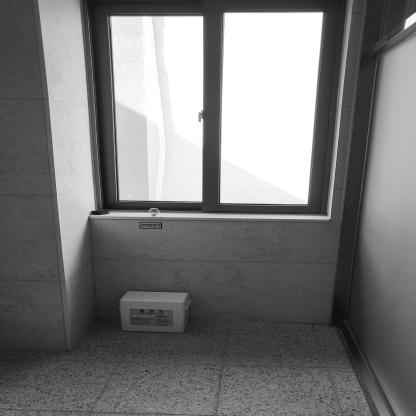DDL: (119, 290, 193, 333)
